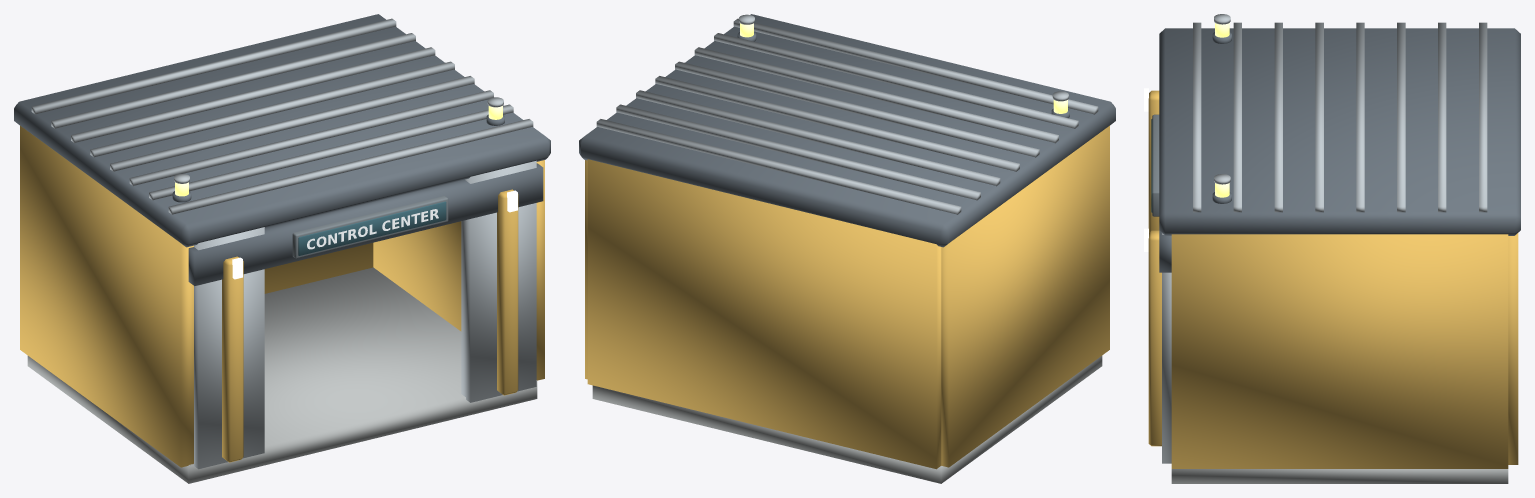
The model's file is control_center_enhanced.glb.
The picture shows the model from 3 angles, left to right: view 1: azimuth 30°, elevation 25°; view 2: azimuth 150°, elevation 25°; view 3: azimuth 270°, elevation 25°; orthographic projection. The views are drawn at different scales.
Parts seen in each view (by area): view 1: Wall_orange_legacy_1, Roof_dark_legacy_2, Foundation_concrete_legacy_0, RoofRib_steel_legacy_12, FrontFrame_steel_legacy_3, Header_dark_legacy_4, PortalTrim_orange_legacy_14, SignPlate_glass, ScreenMount_frame, TypeLabel_white; view 2: Wall_orange_legacy_1, Roof_dark_legacy_2, RoofRib_steel_legacy_12, Foundation_concrete_legacy_0; view 3: Wall_orange_legacy_1, Roof_dark_legacy_2, RoofRib_steel_legacy_12, Foundation_concrete_legacy_0, PortalTrim_orange_legacy_14, FrontFrame_steel_legacy_3, ScreenMount_frame, Header_dark_legacy_4, StatusLight_warn_legacy_10.
Boxes of the visible parts, x1,y1,x2,y2 form: Wall_orange_legacy_1: (20, 125, 544, 467); Roof_dark_legacy_2: (14, 14, 550, 247); Foundation_concrete_legacy_0: (27, 267, 537, 483); RoofRib_steel_legacy_12: (31, 18, 533, 214); FrontFrame_steel_legacy_3: (194, 160, 536, 469); Header_dark_legacy_4: (188, 163, 543, 285); PortalTrim_orange_legacy_14: (222, 189, 518, 462); SignPlate_glass: (298, 201, 446, 255); ScreenMount_frame: (292, 196, 448, 258); TypeLabel_white: (307, 209, 438, 249); Wall_orange_legacy_1: (585, 125, 1109, 469); Roof_dark_legacy_2: (579, 14, 1115, 247); RoofRib_steel_legacy_12: (596, 18, 1098, 214); Foundation_concrete_legacy_0: (592, 356, 1102, 483); Wall_orange_legacy_1: (1171, 233, 1518, 468); Roof_dark_legacy_2: (1159, 28, 1520, 235); RoofRib_steel_legacy_12: (1193, 22, 1487, 212); Foundation_concrete_legacy_0: (1171, 469, 1508, 483); PortalTrim_orange_legacy_14: (1148, 90, 1161, 446); FrontFrame_steel_legacy_3: (1162, 233, 1171, 463); ScreenMount_frame: (1152, 114, 1159, 216); Header_dark_legacy_4: (1159, 230, 1171, 272); StatusLight_warn_legacy_10: (1215, 23, 1229, 197).
Bounding box in the file's own units: 5.3 × 3.9 × 4.48.
